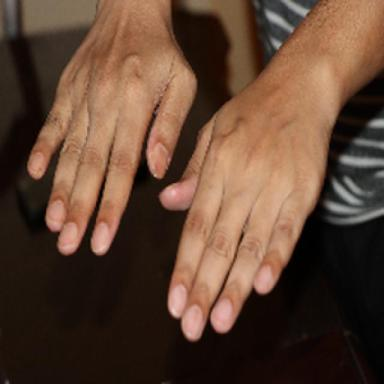normal skin: (160, 0, 384, 341), (28, 0, 196, 255)
